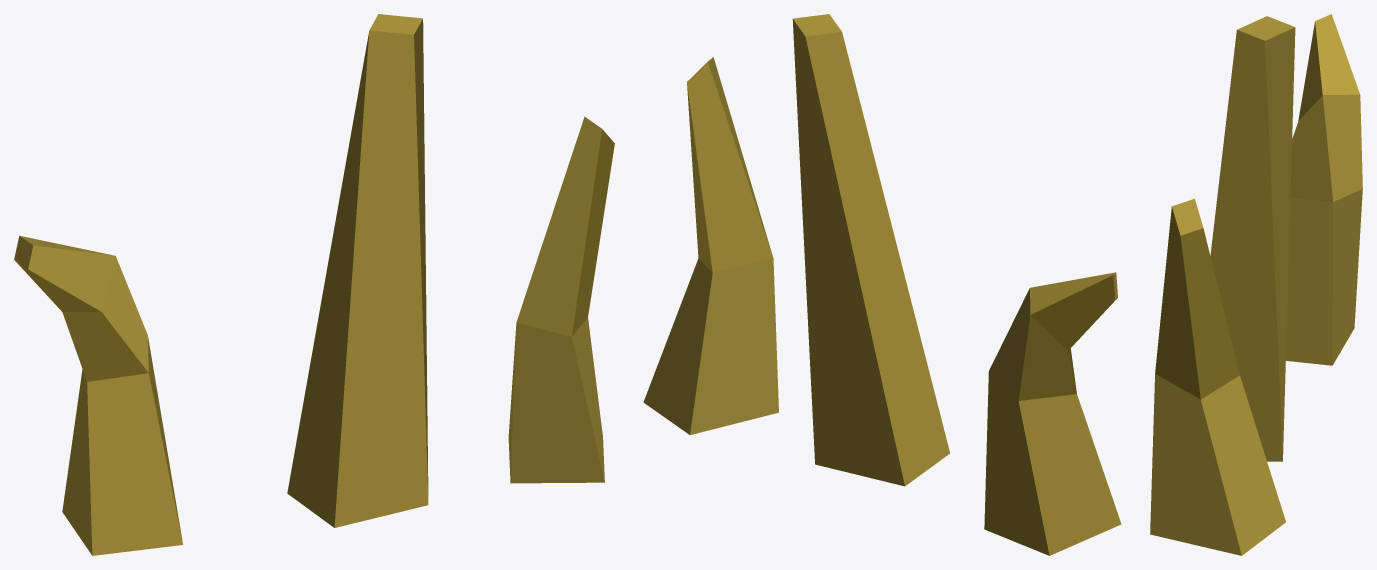
File: GrassWinter1_Alt2.fbx
3 renders of one model, left to right at view 1: azimuth 30°, elevation 25°; view 2: azimuth 150°, elevation 25°; view 3: azimuth 270°, elevation 25°, orthographic. The views are drawn at different scales.
Parts seen in each view (by area): view 1: GrassWinter1_Alt2; view 2: GrassWinter1_Alt2; view 3: GrassWinter1_Alt2.
Part boxes in pixels (<box>): GrassWinter1_Alt2: <box>14,14,614,555</box>; GrassWinter1_Alt2: <box>643,14,1121,555</box>; GrassWinter1_Alt2: <box>1150,14,1362,555</box>.
Bounding box in the file's own units: 0.327 × 0.2606 × 0.1152.
